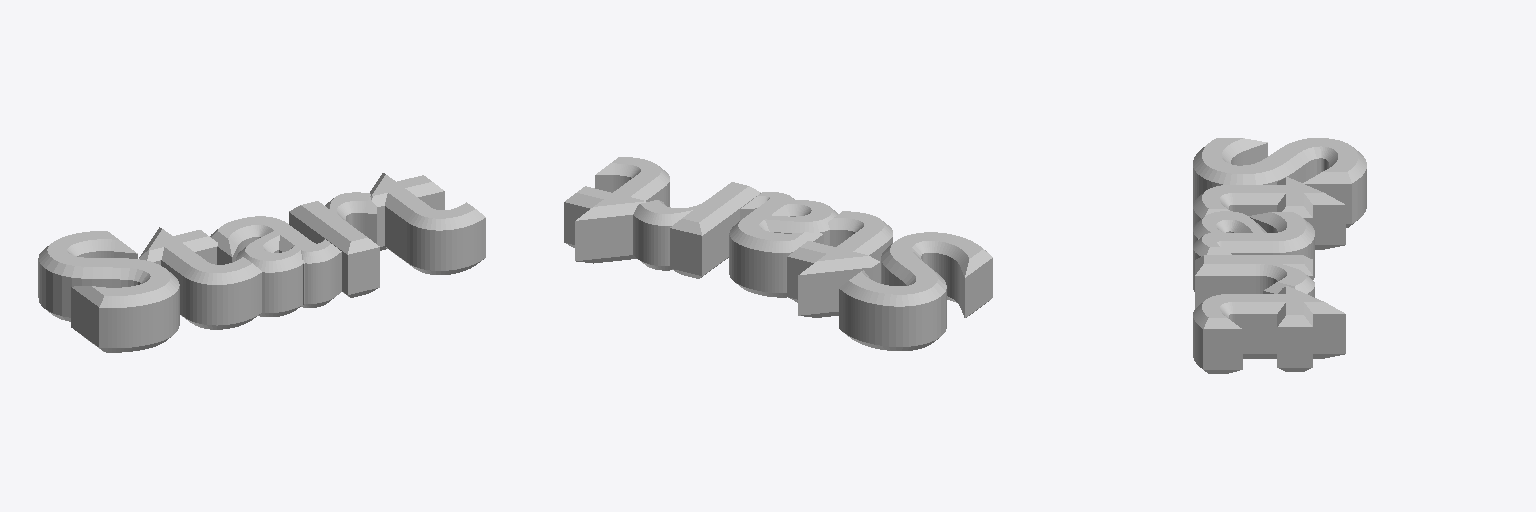
Rendered from start.obj.
3 views of the same model, side by side, from view 1: azimuth 30°, elevation 25°; view 2: azimuth 150°, elevation 25°; view 3: azimuth 270°, elevation 25° (orthographic).
Parts seen in each view (by area): view 1: 文本; view 2: 文本; view 3: 文本.
Part boxes in pixels (bbox=[...]): 文本: bbox=[38, 173, 485, 352]; 文本: bbox=[564, 157, 992, 350]; 文本: bbox=[1193, 138, 1366, 373].
Bounding box in the file's own units: 5.28 × 0.7442 × 2.07.